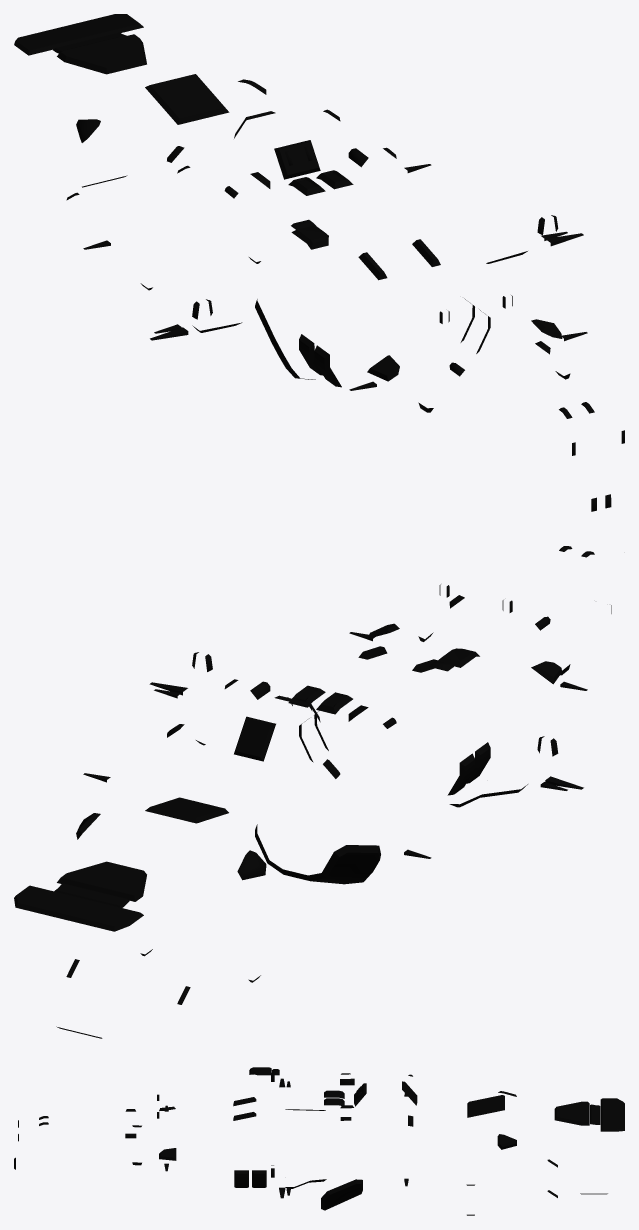
File: hgn_cf_ionc_01_t4.glb
The picture shows the model from 3 angles, top to bottom: view 1: azimuth 30°, elevation 25°; view 2: azimuth 150°, elevation 25°; view 3: azimuth 270°, elevation 25°; orthographic projection. The views are drawn at different scales.
Parts seen in each view (by area): view 1: hgn_ion_cannon_frigate_01_t4_LOD0; view 2: hgn_ion_cannon_frigate_01_t4_LOD0; view 3: hgn_ion_cannon_frigate_01_t4_LOD0.
Part boxes in pixels (left/top/right/bottom): hgn_ion_cannon_frigate_01_t4_LOD0: left=14, top=14, right=624, bottom=511; hgn_ion_cannon_frigate_01_t4_LOD0: left=14, top=546, right=611, bottom=1038; hgn_ion_cannon_frigate_01_t4_LOD0: left=14, top=1067, right=624, bottom=1215.
Size of what is drawn, in the model's own units: 1.98 by 0.922 by 4.27.
Materials: 1 (1 with a texture image).
